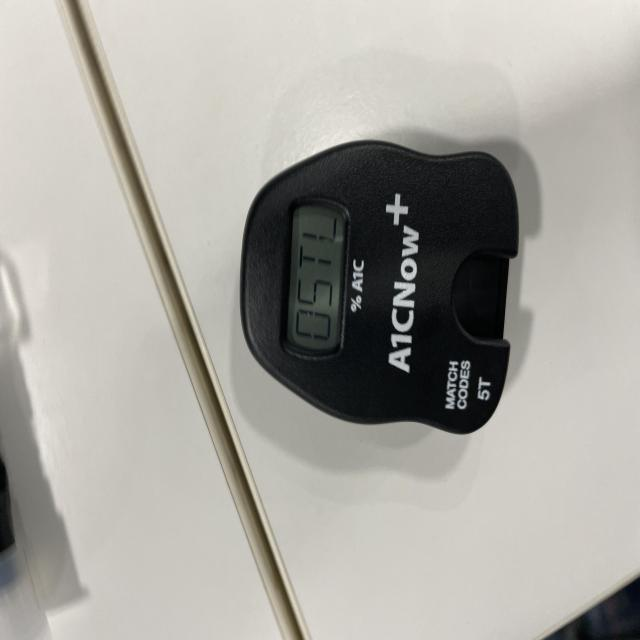hba1c: (186, 115, 568, 462)
